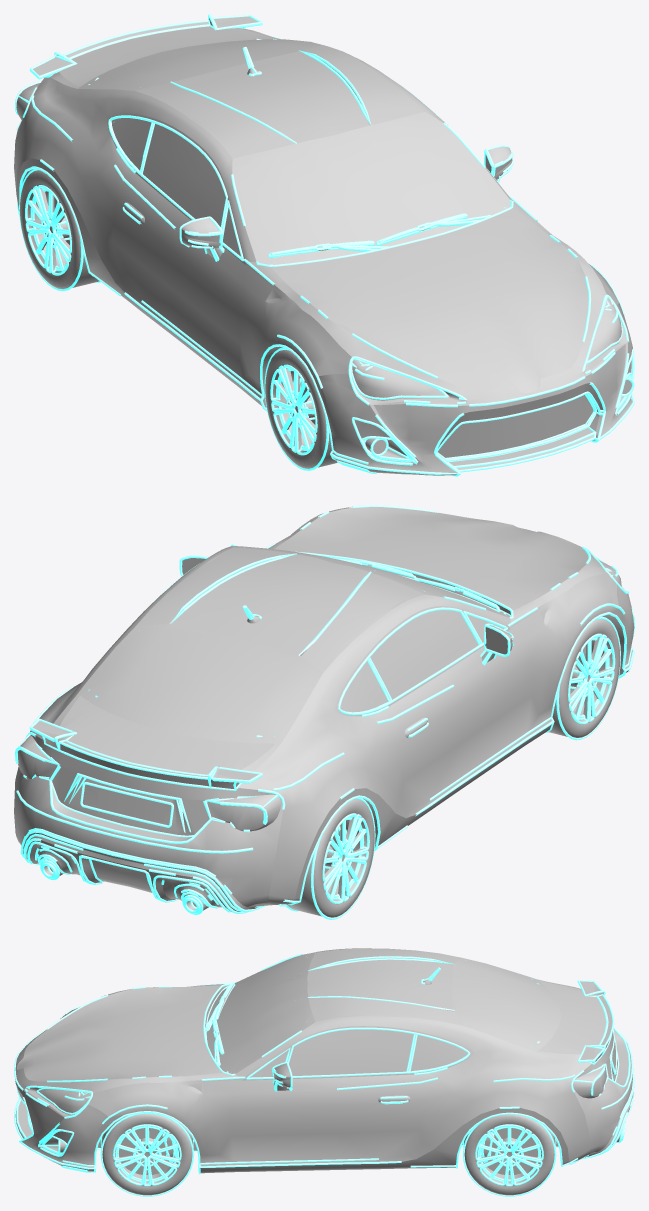
Rendered from Light vehicles - Vehicle.glb.
3 views of the same model, one above another, from view 1: azimuth 30°, elevation 25°; view 2: azimuth 150°, elevation 25°; view 3: azimuth 270°, elevation 25° (orthographic). The views are drawn at different scales.
Visible parts, largest first — view 1: Object_19.001; view 2: Object_19.001; view 3: Object_19.001.
Part boxes in pixels (bbox=[...]): Object_19.001: bbox=[14, 14, 634, 476]; Object_19.001: bbox=[14, 505, 634, 919]; Object_19.001: bbox=[14, 948, 634, 1196].
Bounding box in the file's own units: 1.96 × 1.35 × 4.32.
